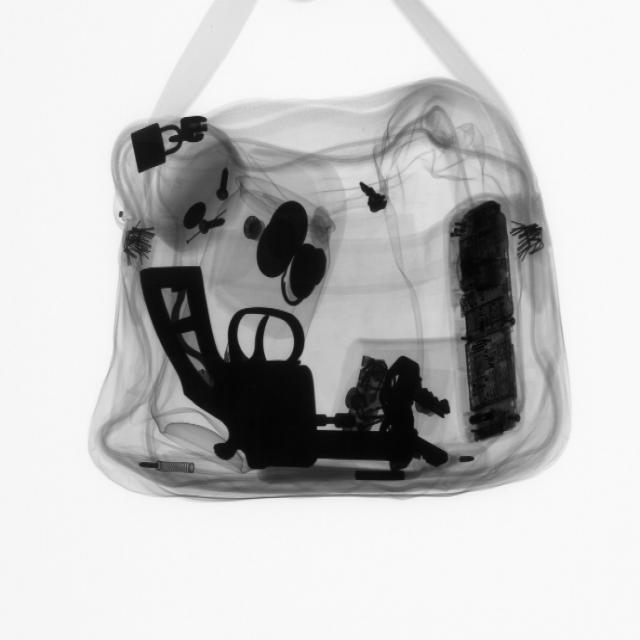GUN: (147, 255, 406, 474)
SCREW: (204, 161, 250, 209), (187, 207, 242, 246)
